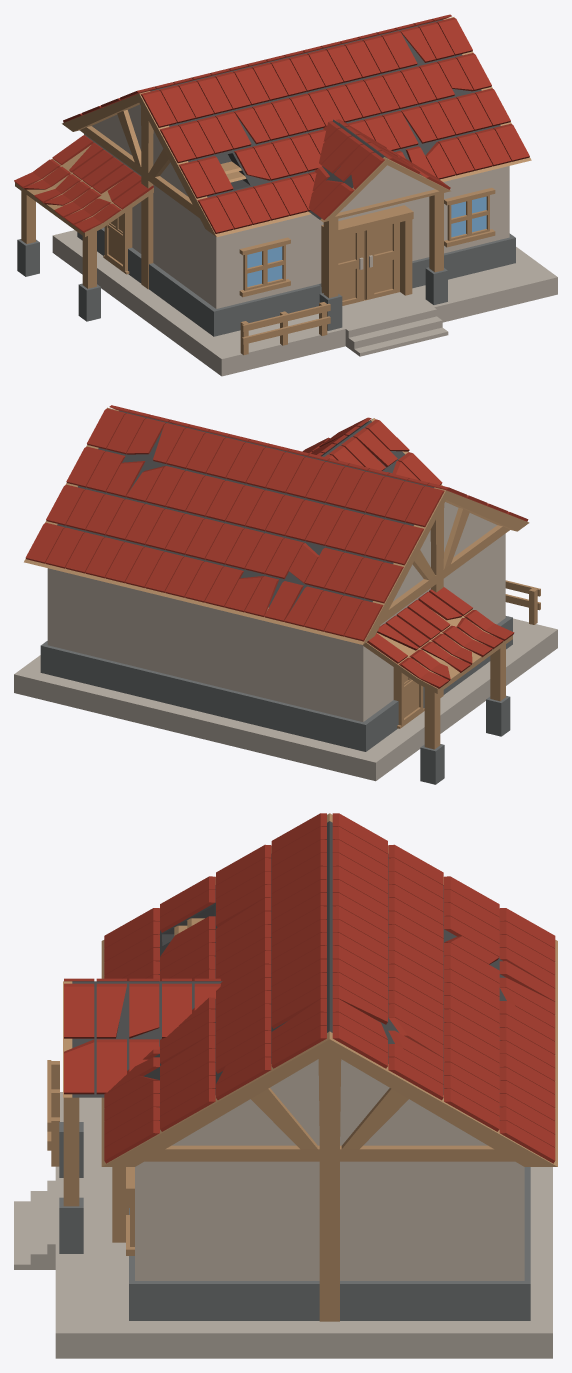
The model's file is Rumah Kades .fbx.
The picture shows the model from 3 angles, top to bottom: view 1: azimuth 30°, elevation 25°; view 2: azimuth 150°, elevation 25°; view 3: azimuth 270°, elevation 25°; orthographic projection. The views are drawn at different scales.
Parts seen in each view (by area): view 1: Rumah Kades; view 2: Rumah Kades; view 3: Rumah Kades.
Part boxes in pixels (<box>): Rumah Kades: <box>14,14,557,376</box>; Rumah Kades: <box>14,405,557,784</box>; Rumah Kades: <box>14,813,557,1358</box>.
Size of the model in its own units: 7.61 by 4.01 by 6.33.
